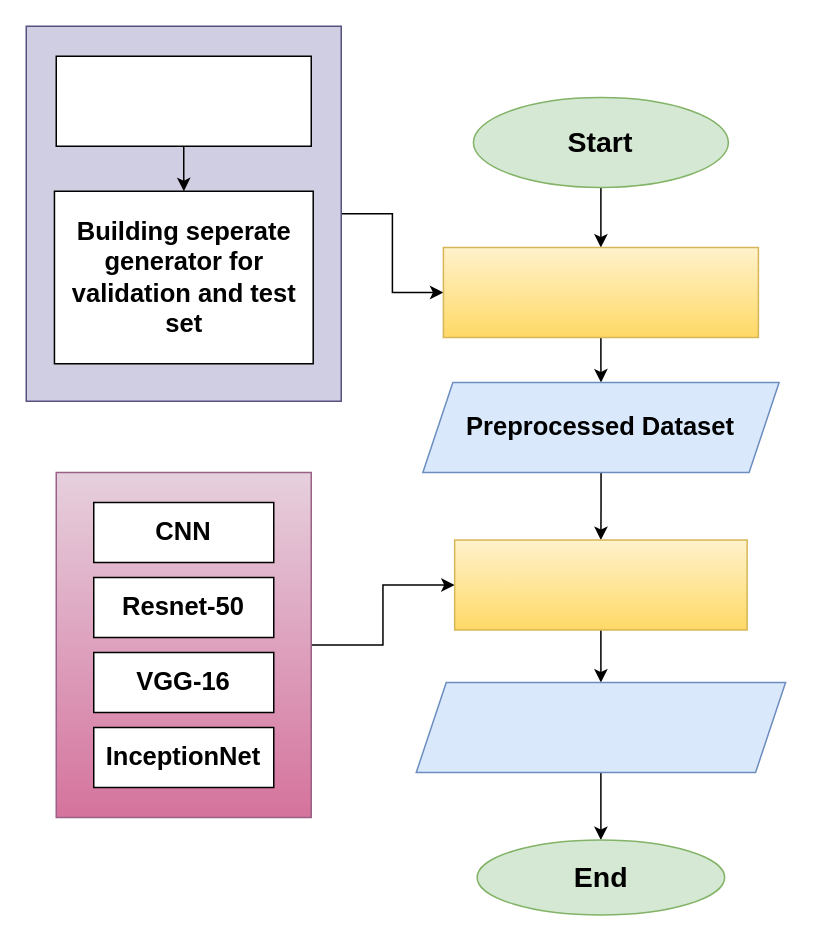
This 813x942 diagram has some shape labels left out. The centre of each missing label's shape, as x and y in pixels:
Apply deep learning models: [600,584]
Image Preprocessing: [600,292]
Models' result analysis: [600,726]
Rescaling Image: [183,100]
